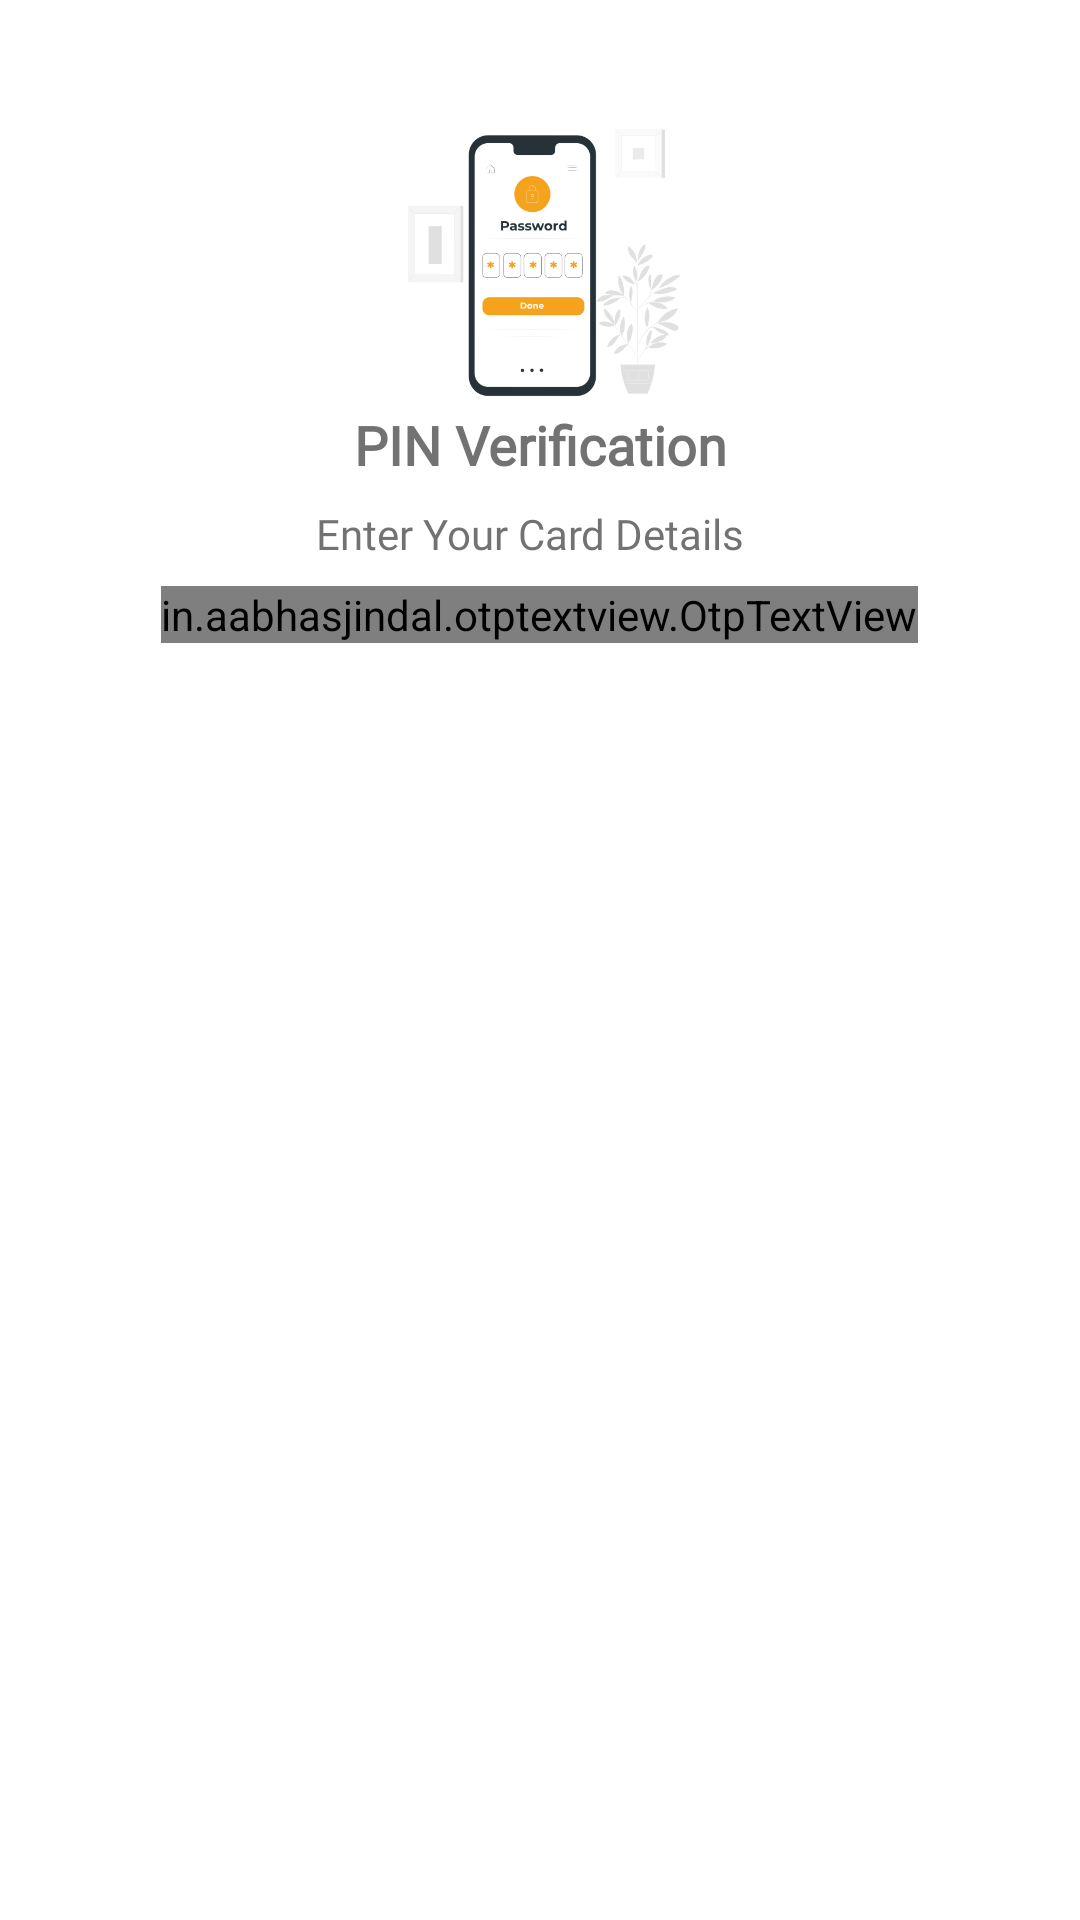

Screen size 1080px×1920px. Icon name, then its box in pixels as (x1, y1, x2, y2):
otp: (429, 130, 679, 396)
